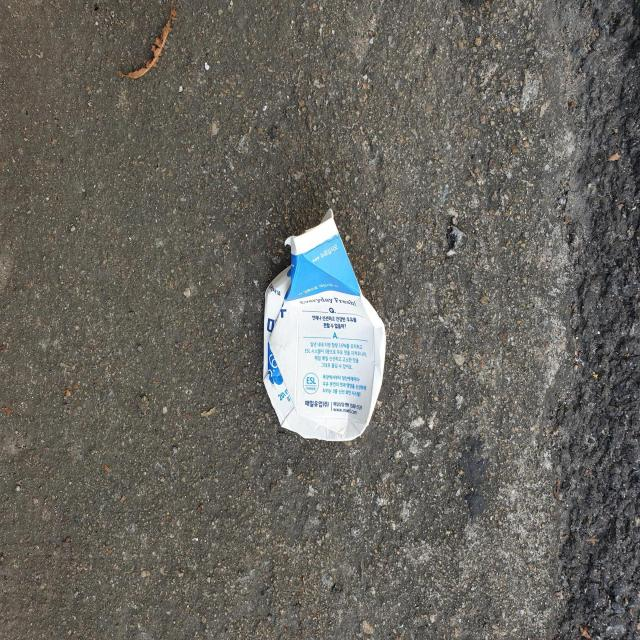paperpack: (263, 209, 386, 441)
